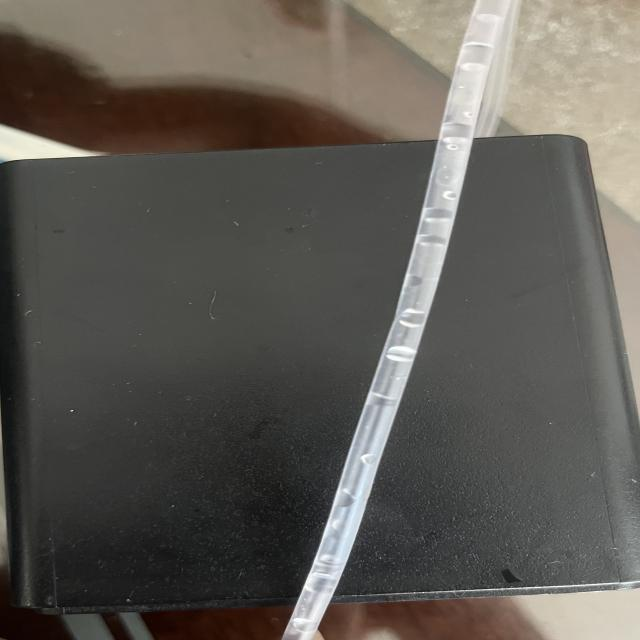bubble: (433, 67, 525, 126), (436, 5, 528, 52), (362, 365, 434, 401), (406, 215, 469, 239), (392, 305, 434, 331), (308, 552, 350, 578), (430, 186, 478, 206), (327, 489, 366, 512), (381, 341, 415, 366), (396, 275, 438, 292), (354, 447, 387, 466), (440, 138, 463, 158)
